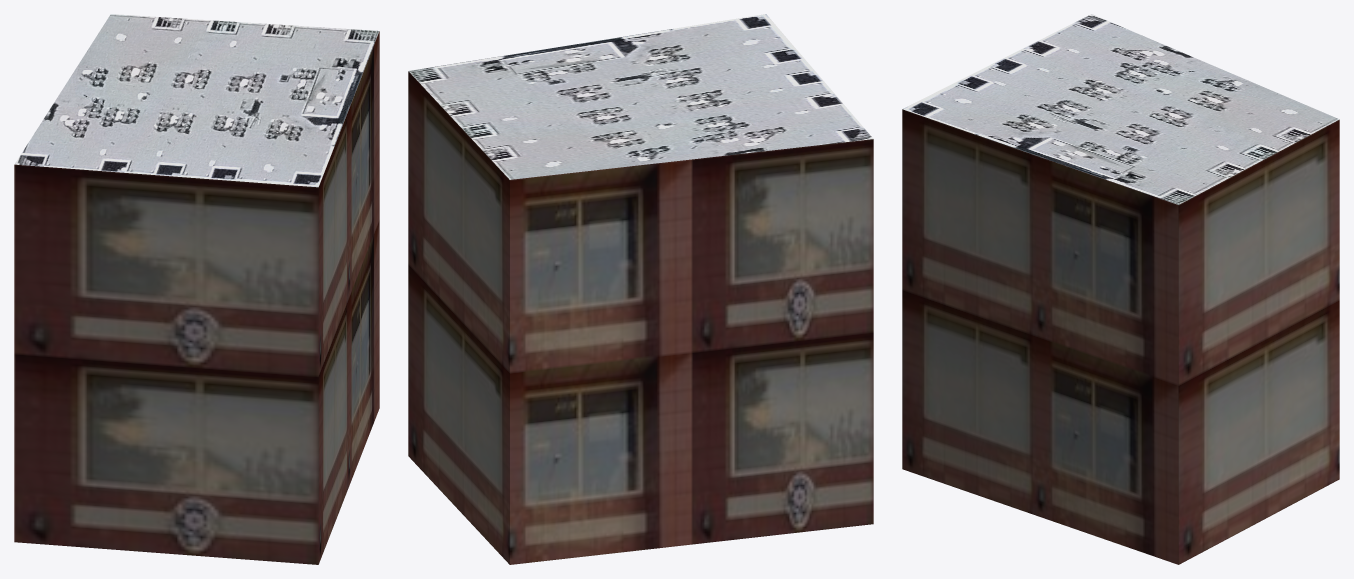
Rendered from ResTex__5054.fbx.
The picture shows the model from 3 angles, left to right: view 1: azimuth 30°, elevation 25°; view 2: azimuth 150°, elevation 25°; view 3: azimuth 270°, elevation 25°; orthographic projection. The views are drawn at different scales.
Visible parts, largest first — view 1: CityEngineMaterial_13_m, CityEngineMaterial_4_m; view 2: CityEngineMaterial_13_m, CityEngineMaterial_4_m; view 3: CityEngineMaterial_13_m, CityEngineMaterial_4_m.
Part boxes in pixels (x1,y1,x2,y2): CityEngineMaterial_13_m: (14, 31, 379, 564); CityEngineMaterial_4_m: (14, 14, 379, 187); CityEngineMaterial_13_m: (408, 71, 873, 564); CityEngineMaterial_4_m: (408, 14, 873, 179); CityEngineMaterial_13_m: (902, 109, 1339, 564); CityEngineMaterial_4_m: (902, 14, 1339, 204).
Size of the model in its own units: 6.83 by 6 by 6.61.
Materials: 2 (2 with a texture image).
